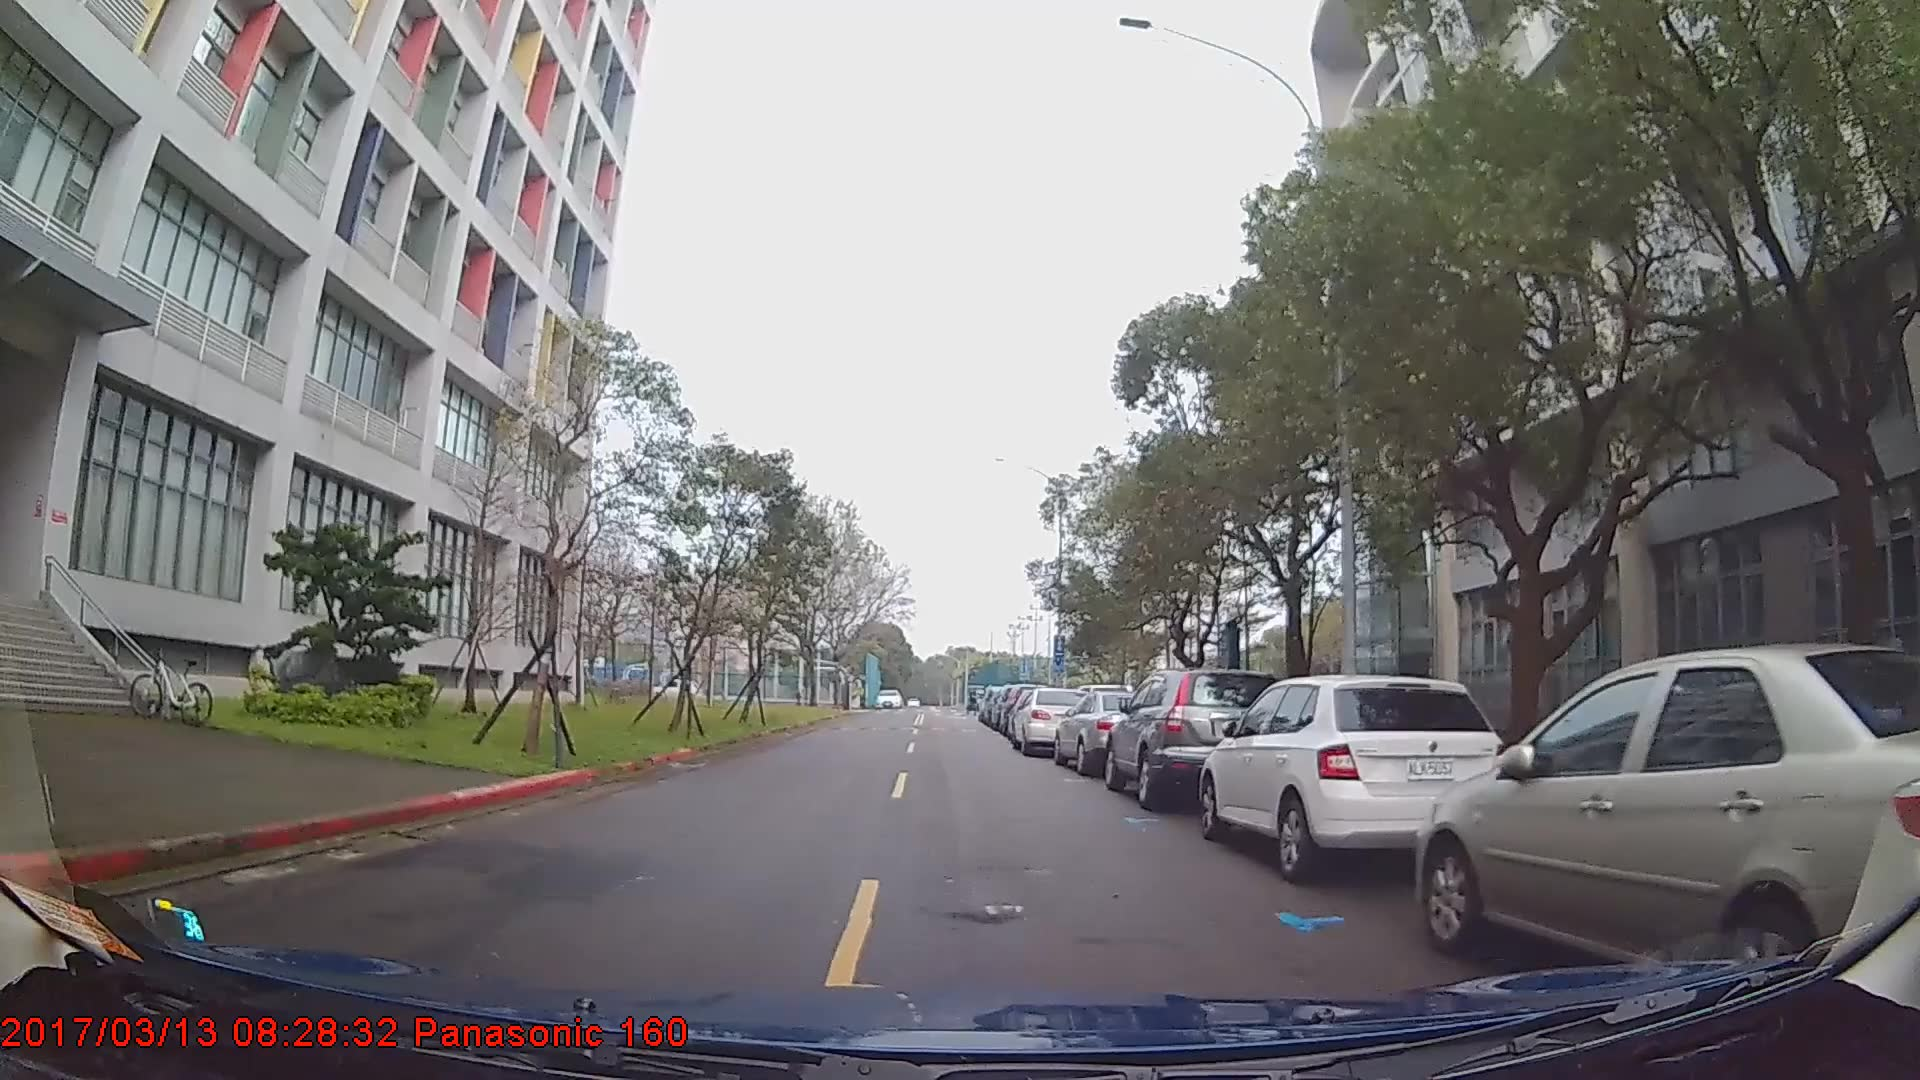vehicle: (1410, 637, 1920, 996), (1200, 673, 1515, 886), (1101, 665, 1292, 808), (1052, 686, 1156, 773), (1011, 686, 1093, 757)
